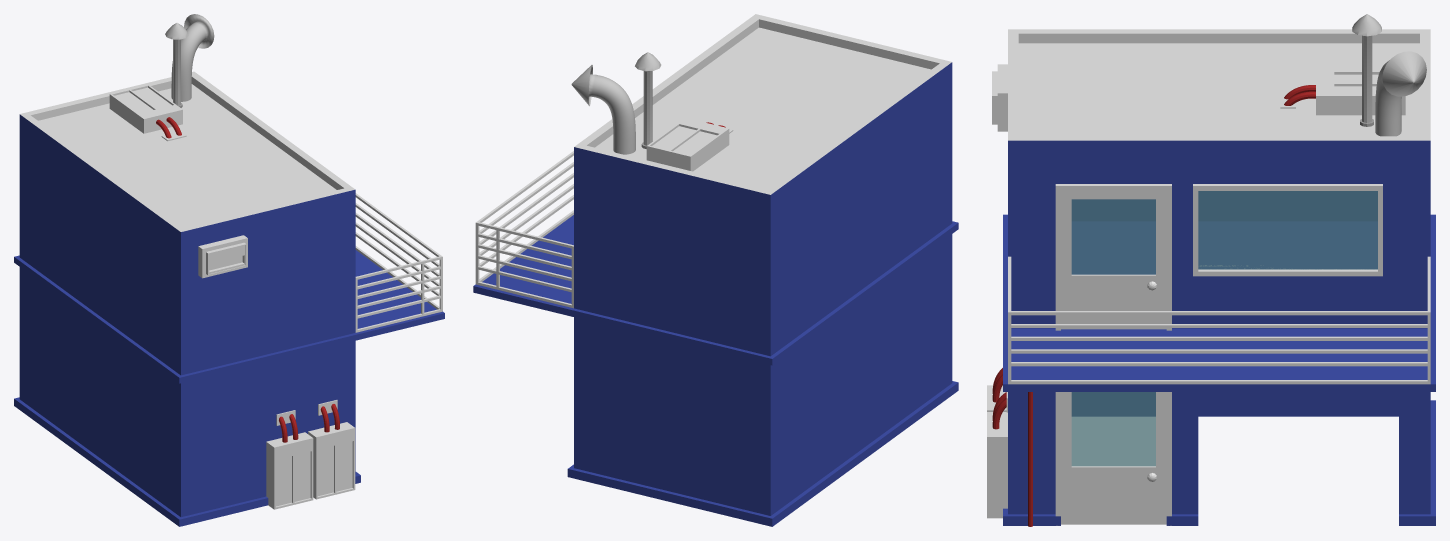
Rendered from House3.fbx.
3 views of the same model, side by side, from view 1: azimuth 30°, elevation 25°; view 2: azimuth 150°, elevation 25°; view 3: azimuth 270°, elevation 25° (orthographic). The views are drawn at different scales.
Visible parts, largest first — view 1: pCube44, pCube2, pCube57, pCube55, polySurface7, pCube64, pCylinder9, pCylinder7; view 2: pCube44, pCube2, polySurface7, pCylinder9, pCylinder7; view 3: pCube44, pCube2, pCube71, pCube68, pCube50, pCube69, pCube70, pCube67, pCylinder9, polySurface7, polySurface1, polySurface2 (+8 smaller).
Part boxes in pixels (x1,y1,x2,y2): pCube44: (14,71,360,526); pCube2: (355,250,444,339); pCube57: (266,432,313,509); pCube55: (308,422,355,499); polySurface7: (109,84,182,133); pCube64: (198,235,247,278); pCylinder9: (171,14,214,101); pCylinder7: (165,23,188,105); pCube44: (567,14,958,526); pCube2: (473,215,573,316); polySurface7: (646,118,729,171); pCylinder9: (571,65,635,154); pCylinder7: (635,52,661,145); pCube44: (1003,29,1435,525); pCube2: (1003,328,1435,391); pCube71: (1198,191,1377,269); pCube68: (1061,392,1166,524); pCube50: (1055,184,1382,525); pCube69: (1061,191,1166,329); pCube70: (1071,199,1155,274); pCube67: (1071,392,1155,466); pCylinder9: (1375,51,1426,136); polySurface7: (1316,71,1405,115); polySurface1: (1011,362,1427,366); polySurface2: (1011,349,1427,353).
Bounding box in the file's own units: 7.6 × 10.09 × 8.5.
